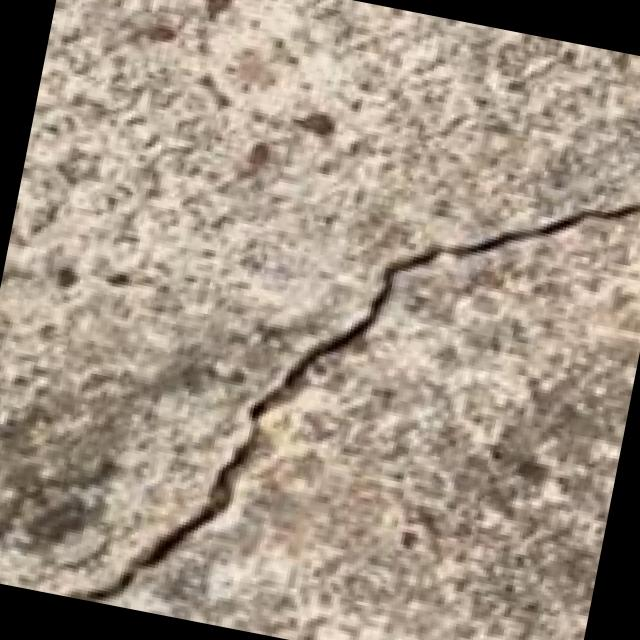crack: (46, 52, 640, 640)
